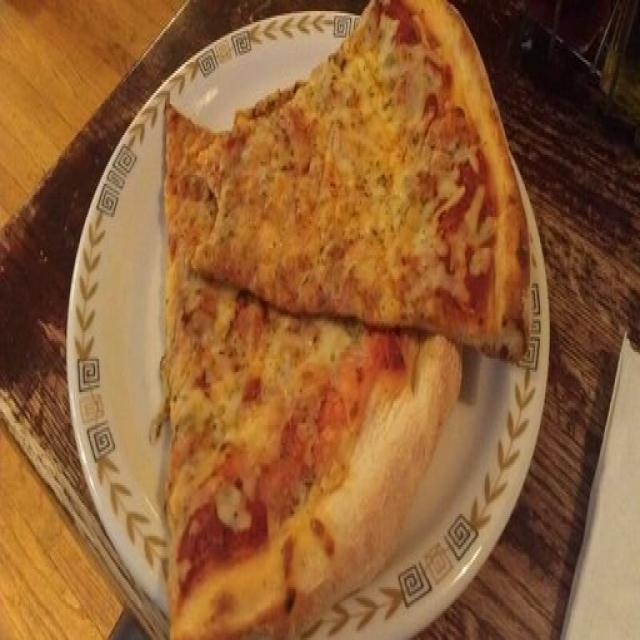Pizza: (162, 0, 530, 638)
